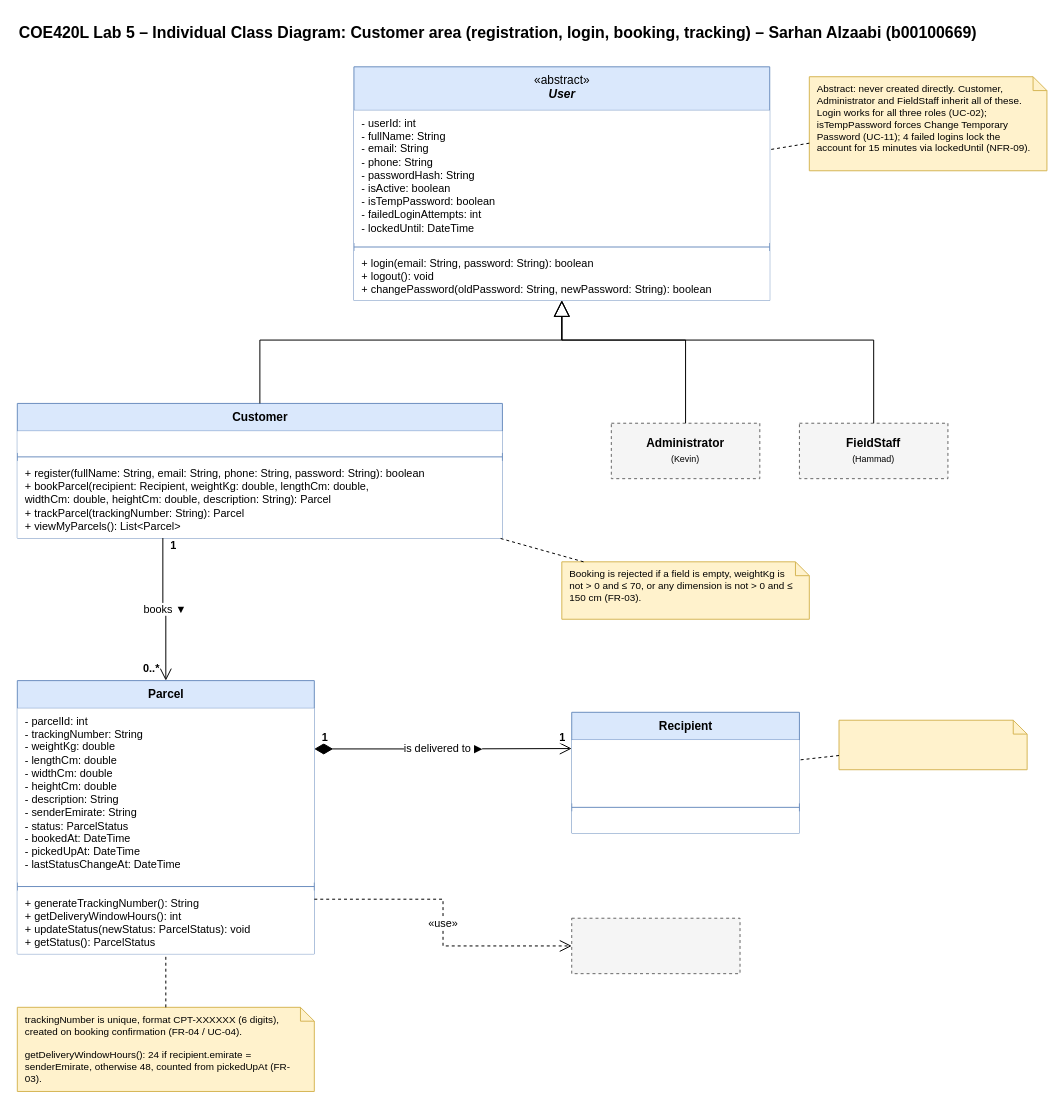
The diagram is 1064 pixels wide and 1109 high, and some of its shapes have lost their labels. Here are the shapes that lost their labels. From the top down, the centre of each, then its label:
At point (259, 441): "- registeredAt: DateTime".
At point (932, 744): "isValidPhone(): UAE number, +971 followed by 9 digits (FR-03).".
At point (685, 771): "- fullName: String - phone: String - address: String - emirate: String".
At point (685, 822): "+ isValidPhone(): boolean".
At point (655, 945): "«enumeration» ParcelStatus (Hammad)".
